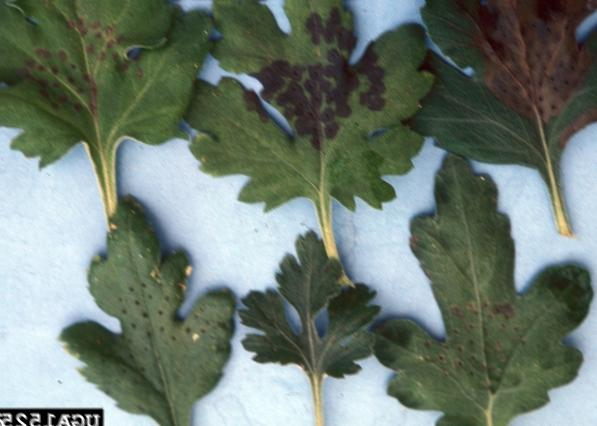Tomato leaf bacterial spot: (354, 135, 597, 422), (34, 171, 236, 420), (0, 0, 220, 208), (234, 233, 375, 412)
